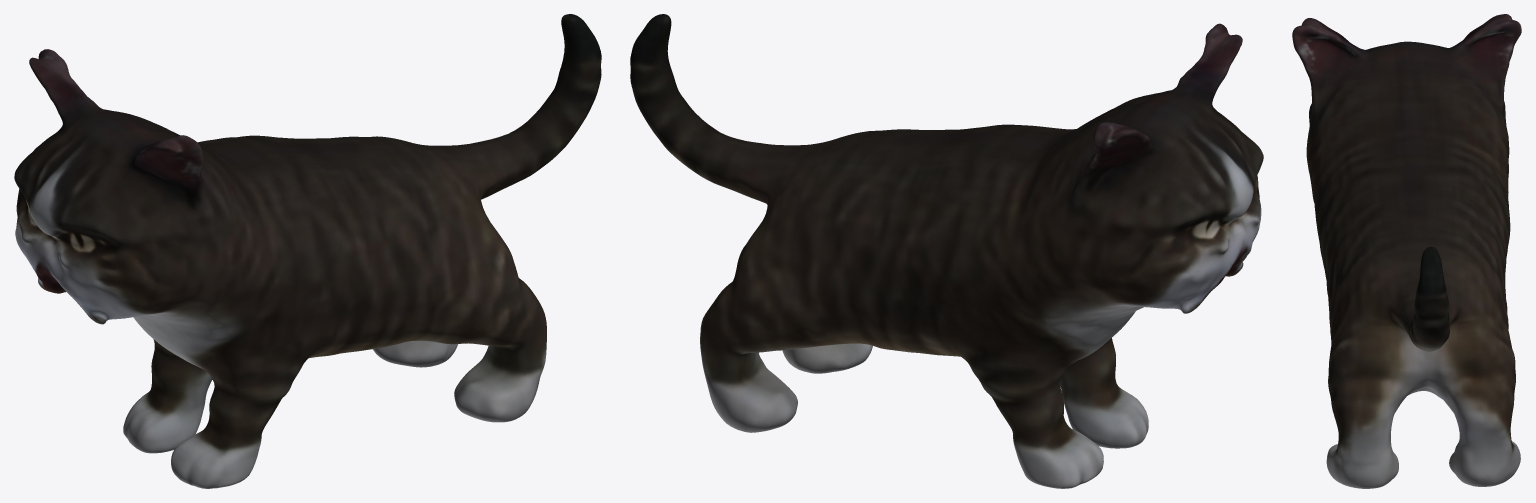
The model's file is cat.fbx.
3 renders of one model, left to right at view 1: azimuth 30°, elevation 25°; view 2: azimuth 150°, elevation 25°; view 3: azimuth 270°, elevation 25°, orthographic. The views are drawn at different scales.
Visible parts, largest first — view 1: geometry_0; view 2: geometry_0; view 3: geometry_0.
Boxes of the visible parts, x1,y1,x2,y2 form: geometry_0: [14, 14, 601, 488]; geometry_0: [630, 14, 1263, 488]; geometry_0: [1292, 14, 1521, 488].
Bounding box in the file's own units: 56.76 × 36.06 × 23.72.
1 material, 1 textured.
